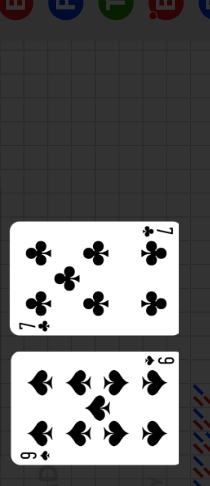7C: (140, 224, 175, 239)
9S: (19, 449, 53, 462)
